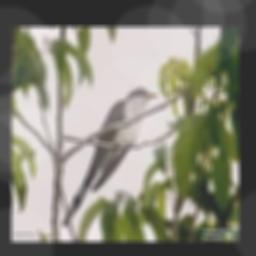Cuckoo: (63, 86, 158, 228)
